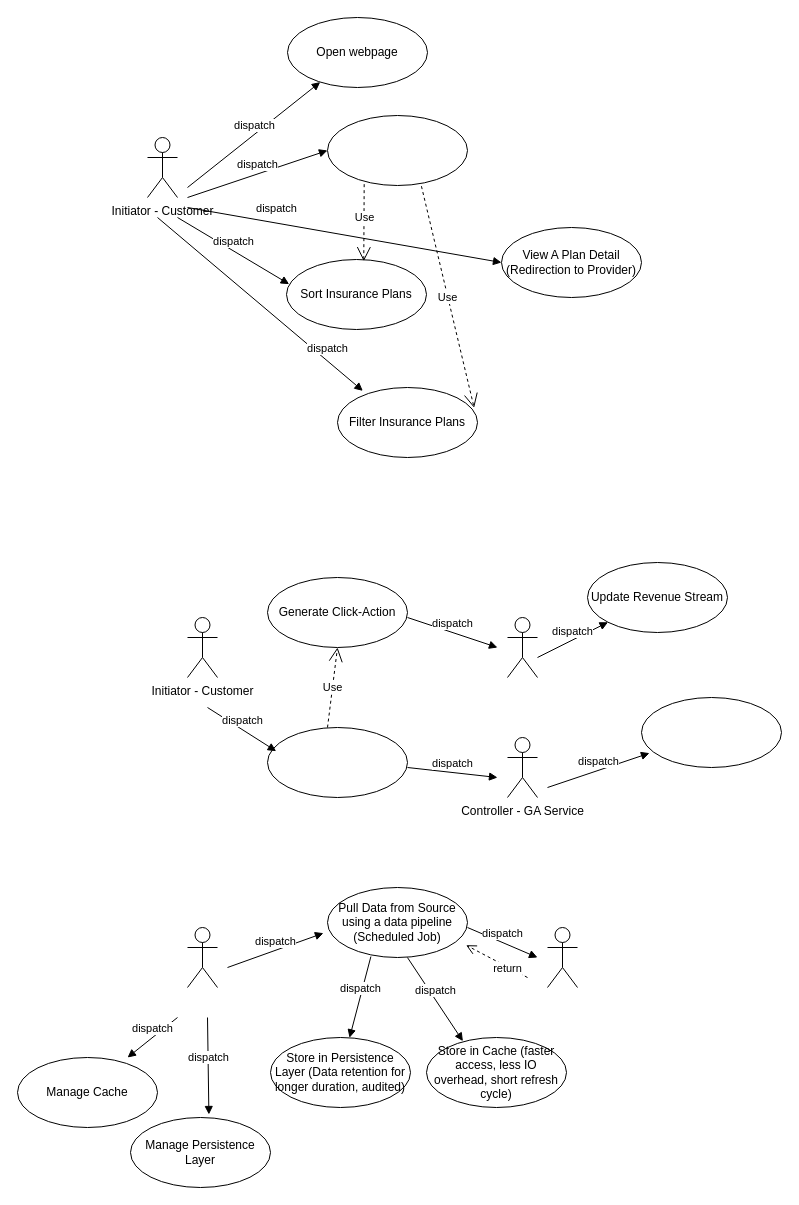
Image size: 799x1205. Some labels were removed from this diagram. Here are the shapes that lost their labels. From the top down, the centre of each, then its label:
point (397, 150): Search Insurance Plans
point (522, 647): Controller - MSM Backend System
point (711, 732): Update Metrics & Dashboard
point (337, 762): Generate Web usage events, based on Web page controls
point (202, 957): Initiator - MSM Backend System
point (562, 957): Controller - Insurance Plan Content Aggregator (3rd party)
